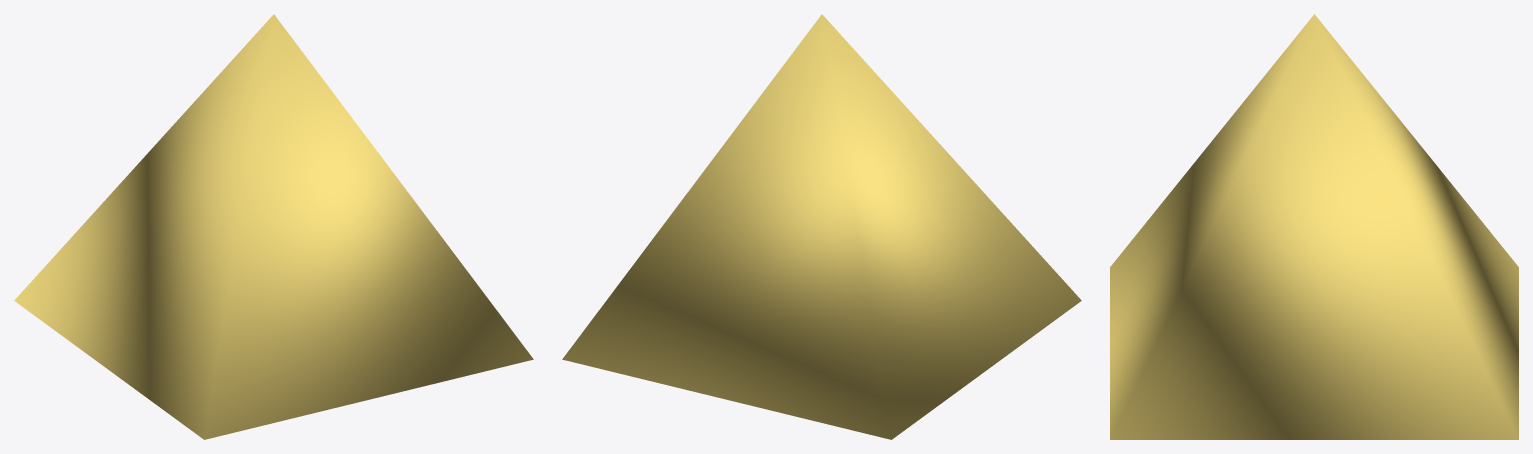
The picture shows the model from 3 angles, left to right: view 1: azimuth 30°, elevation 25°; view 2: azimuth 150°, elevation 25°; view 3: azimuth 270°, elevation 25°; orthographic projection. The views are drawn at different scales.
Visible parts, largest first — view 1: Pyramid; view 2: Pyramid; view 3: Pyramid.
Part boxes in pixels (x1,y1,x2,y2): Pyramid: [14, 14, 533, 439]; Pyramid: [562, 14, 1081, 439]; Pyramid: [1110, 14, 1518, 439].
Bounding box in the file's own units: 1.2 × 1.1 × 1.2.
